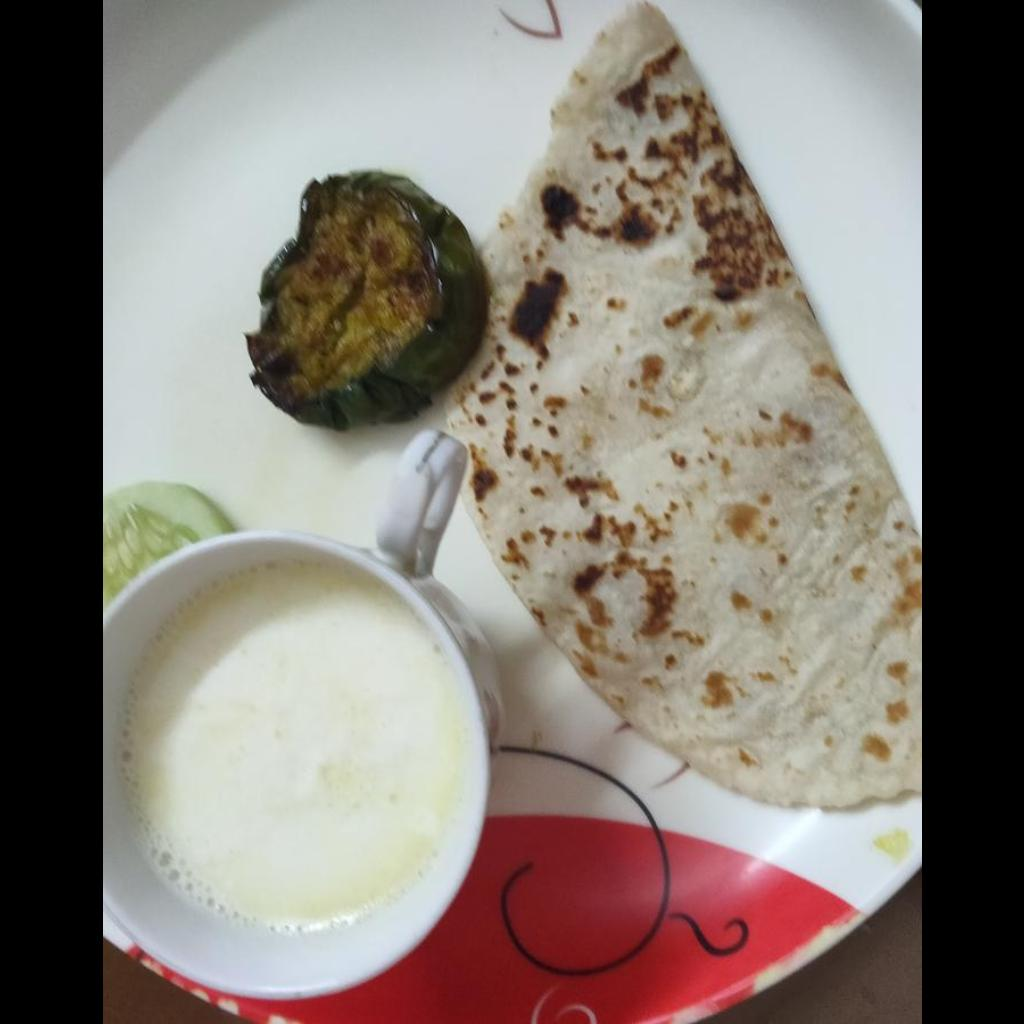begun-vaji: (248, 174, 479, 437)
cucumber: (102, 482, 235, 610)
milk: (119, 561, 466, 930)
ruti: (445, 1, 920, 807)
